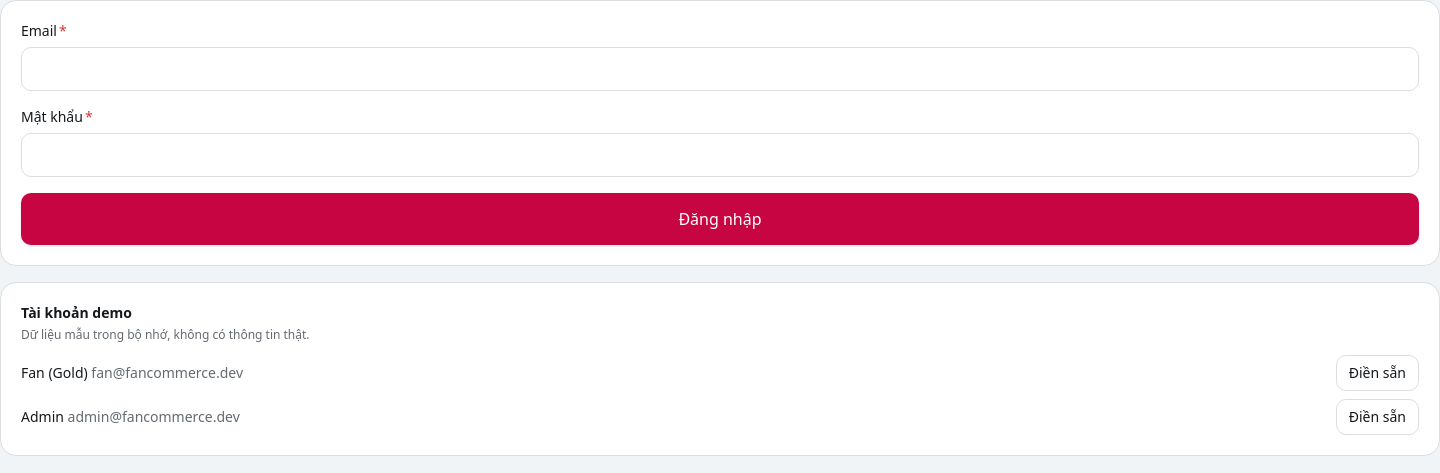
Test: <LoginForm /> › fills the form from a demo account shortcut
Click the button "Điền sẵn" in the row of "Fan (Gold)" at point(1377, 373), box x1=1336 y1=355 x2=1419 y2=391
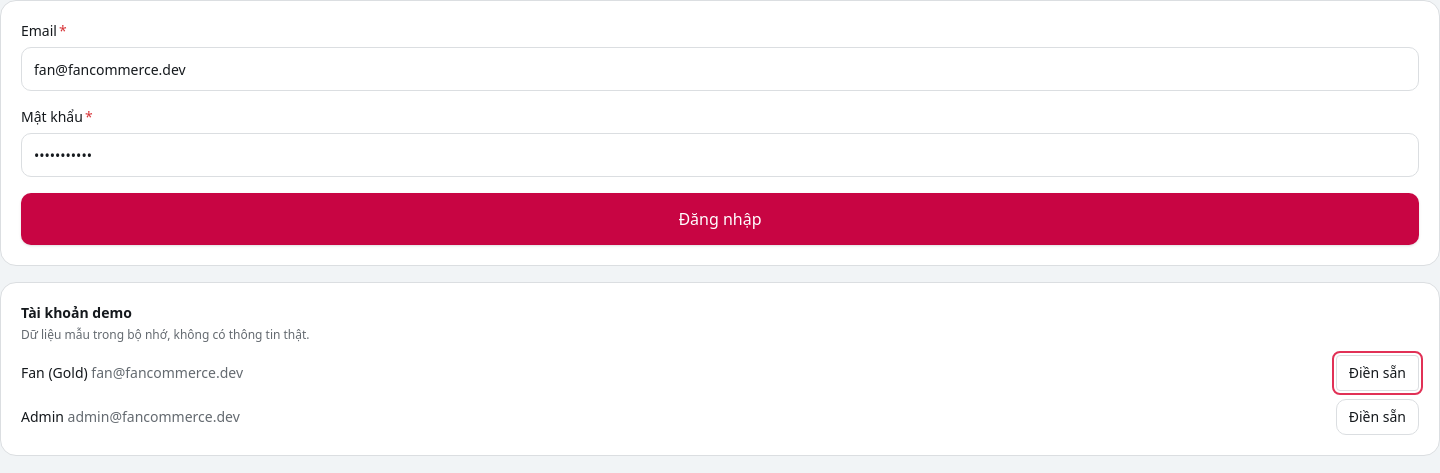
Check: the field labelled "Email*" holds "fan@fancommerce.dev", box x1=21 y1=47 x2=1419 y2=91
Check: the password field labelled "Mật khẩu*" holds "fanclub2026", box x1=21 y1=133 x2=1419 y2=177
